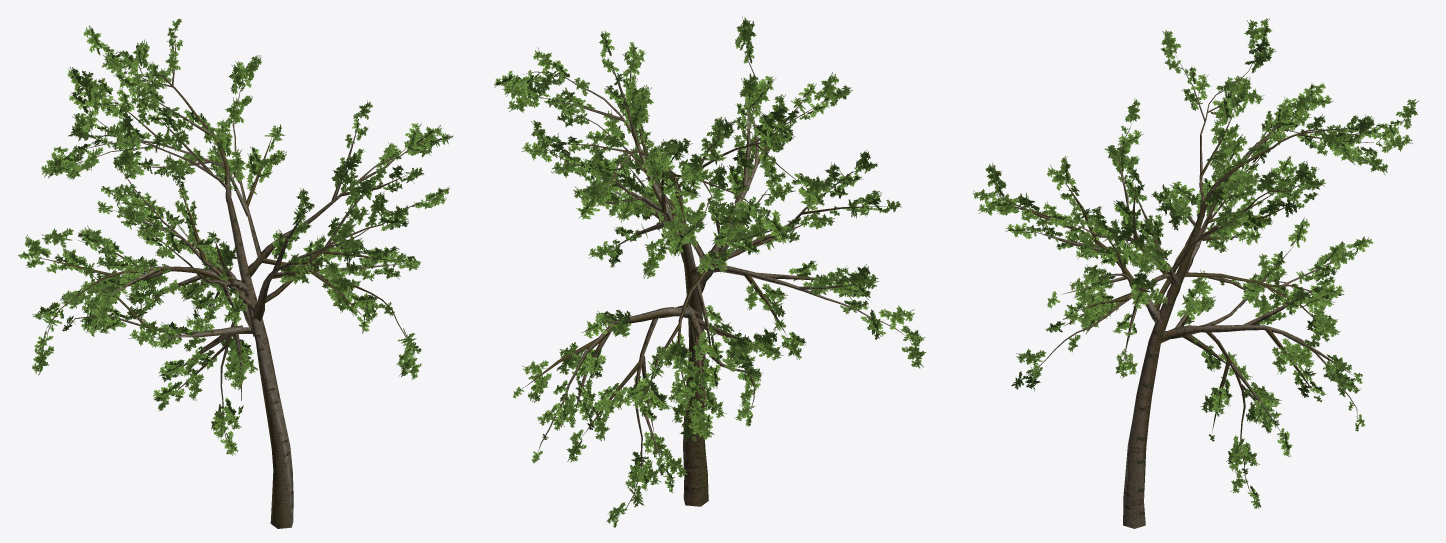
File: tree_oak_small.glb
The picture shows the model from 3 angles, left to right: view 1: azimuth 30°, elevation 25°; view 2: azimuth 150°, elevation 25°; view 3: azimuth 270°, elevation 25°; orthographic projection. The views are drawn at different scales.
Visible parts, largest first — view 1: Leaves, Branches; view 2: Leaves, Branches; view 3: Leaves, Branches.
Boxes of the visible parts, x1,y1,x2,y2 form: Leaves: (18,18,453,455); Branches: (36,30,437,528); Leaves: (494,16,926,527); Branches: (523,50,905,515); Leaves: (972,18,1419,508); Branches: (998,51,1393,528).
Size of the model in its own units: 8.75 by 9 by 8.53.
Materials: 2 (2 with a texture image).
